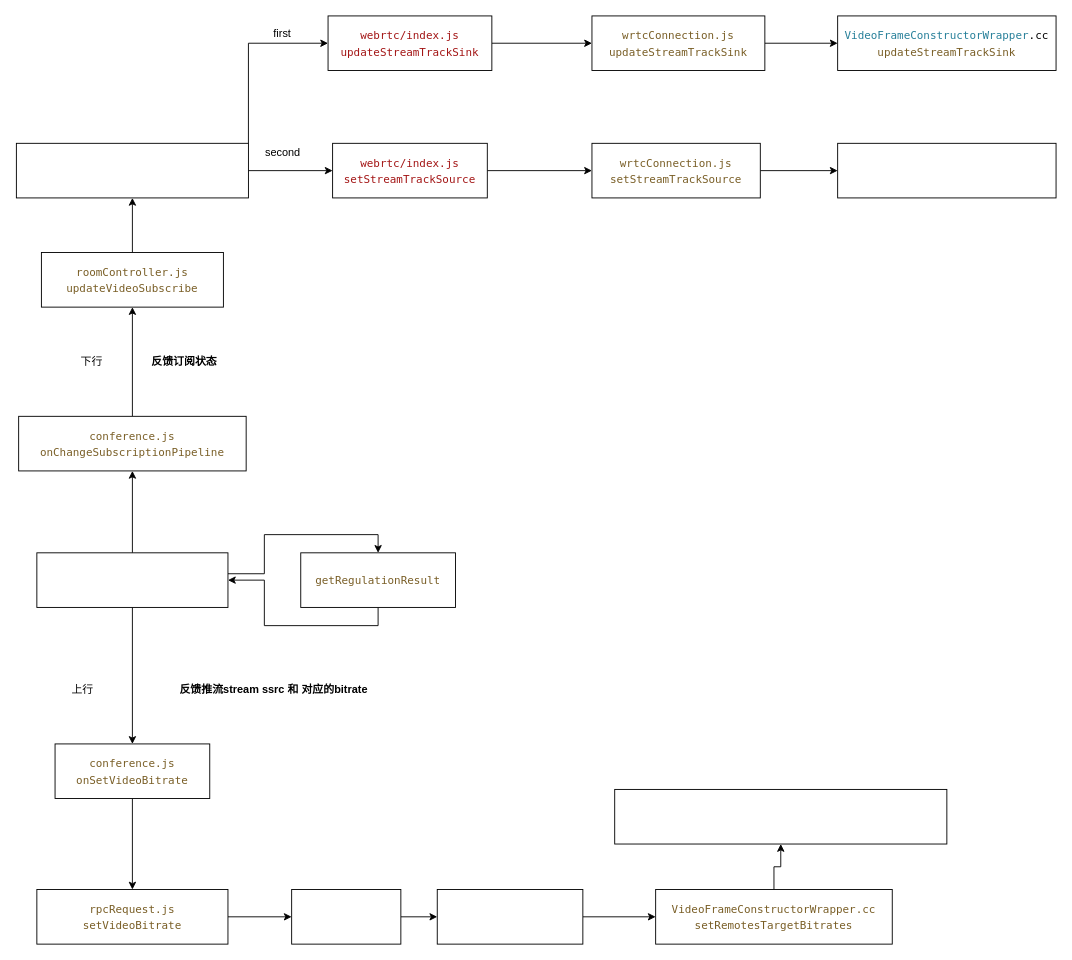
Image size: 1072x960. Some labels were removed from this diagram. The shapes that lost their labels are listed below. From the top down, each one's box as (x1, y1, x2, y2) in pixels, then its label:
(15, 142, 248, 198): roomController.js updateStreamTrackSink
(837, 142, 1056, 198): VideoFramePacketizerWrapper.cc setStreamTrackSource
(36, 552, 228, 607): streamRegulator.js batchRegulate
(614, 789, 947, 844): VideoFrameConstructor:: setRemotesTargetBitrates
(291, 889, 401, 944): index.js setVideoBitrate
(436, 889, 583, 944): wrtcConnection.js setVideoBitrate
